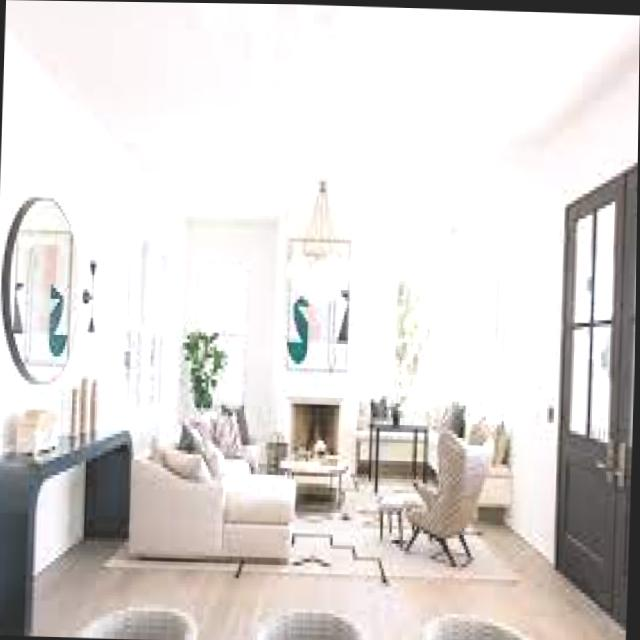noobs: (41, 482, 627, 640)
obs: (0, 420, 132, 634), (129, 406, 296, 563), (406, 430, 493, 585), (368, 410, 432, 497), (276, 446, 350, 512), (78, 602, 201, 640), (257, 604, 373, 640), (424, 611, 537, 640), (379, 483, 429, 540)
